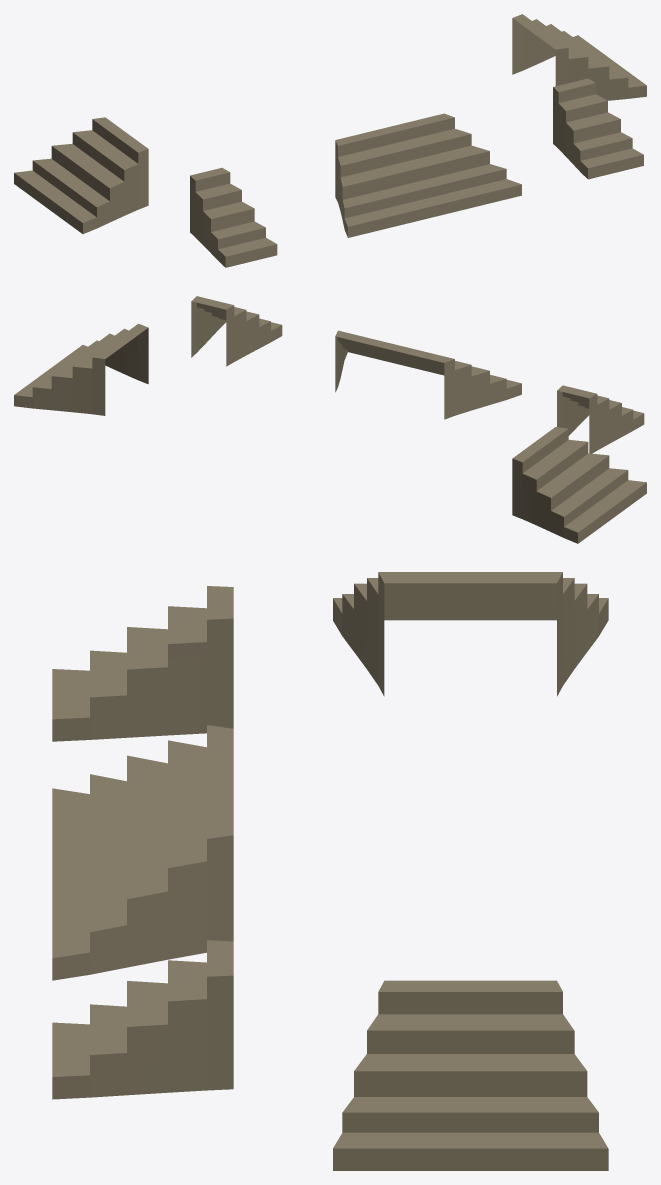
The model's file is StageStairs.fbx.
The picture shows the model from 3 angles, top to bottom: view 1: azimuth 30°, elevation 25°; view 2: azimuth 150°, elevation 25°; view 3: azimuth 270°, elevation 25°; orthographic projection. The views are drawn at different scales.
Parts seen in each view (by area): view 1: CenterStairs, LeftEdgeStairs, SmallRightStairs, SmallLeftStairs, RightEdgeStairs; view 2: LeftEdgeStairs, RightEdgeStairs, CenterStairs, SmallRightStairs, SmallLeftStairs; view 3: RightEdgeStairs, CenterStairs, SmallRightStairs, SmallLeftStairs, LeftEdgeStairs.
Part boxes in pixels (left/top/right/bottom): CenterStairs: left=335, top=113, right=521, bottom=237; LeftEdgeStairs: left=14, top=117, right=148, bottom=233; SmallRightStairs: left=553, top=78, right=643, bottom=179; SmallLeftStairs: left=190, top=167, right=277, bottom=267; RightEdgeStairs: left=512, top=14, right=646, bottom=100; LeftEdgeStairs: left=512, top=427, right=646, bottom=543; RightEdgeStairs: left=14, top=323, right=148, bottom=415; CenterStairs: left=335, top=330, right=521, bottom=419; SmallRightStairs: left=191, top=296, right=282, bottom=366; SmallLeftStairs: left=557, top=385, right=644, bottom=453; RightEdgeStairs: left=333, top=980, right=608, bottom=1170; CenterStairs: left=52, top=725, right=233, bottom=980; SmallRightStairs: left=52, top=940, right=233, bottom=1099; SmallLeftStairs: left=52, top=586, right=233, bottom=741; LeftEdgeStairs: left=333, top=572, right=608, bottom=696.
Size of the model in its own units: 87.8 by 8.45 by 37.48.
